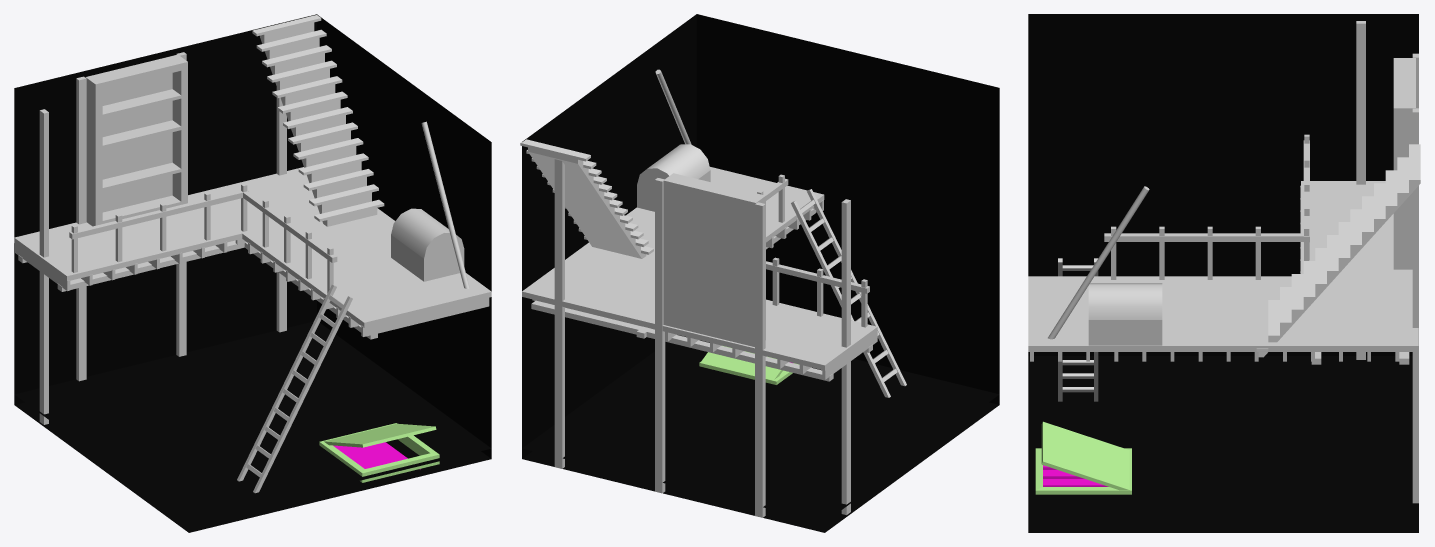
Rendered from cave.FBX.
3 views of the same model, side by side, from view 1: azimuth 30°, elevation 25°; view 2: azimuth 150°, elevation 25°; view 3: azimuth 270°, elevation 25° (orthographic). The views are drawn at different scales.
Parts seen in each view (by area): view 1: Pièce cave, étagère, StraightStair001, Poutres, rambarde, Trappe, coffre, Echelle001, barre; view 2: Pièce cave, Poutres, étagère, StraightStair001, Echelle001, coffre, rambarde, Trappe; view 3: Pièce cave, StraightStair001, Trappe, Poutres, coffre, rambarde, étagère, Echelle001, barre.
Part boxes in pixels (left/top/right/bottom): Pièce cave: left=14, top=14, right=491, bottom=532; étagère: left=85, top=54, right=187, bottom=226; StraightStair001: left=251, top=14, right=384, bottom=226; Poutres: left=15, top=52, right=489, bottom=424; rambarde: left=69, top=183, right=337, bottom=293; Trappe: left=319, top=423, right=439, bottom=482; coffre: left=391, top=208, right=464, bottom=281; Echelle001: left=237, top=284, right=352, bottom=493; barre: left=421, top=121, right=469, bottom=288; Pièce cave: left=522, top=14, right=999, bottom=532; Poutres: left=531, top=159, right=877, bottom=517; étagère: left=663, top=173, right=765, bottom=346; StraightStair001: left=520, top=139, right=653, bottom=258; Echelle001: left=791, top=189, right=906, bottom=397; coffre: left=637, top=144, right=710, bottom=211; rambarde: left=757, top=174, right=869, bottom=327; Trappe: left=699, top=345, right=799, bottom=384; Pièce cave: left=1028, top=14, right=1418, bottom=532; StraightStair001: left=1256, top=144, right=1420, bottom=357; Trappe: left=1035, top=421, right=1131, bottom=494; Poutres: left=1030, top=21, right=1418, bottom=503; coffre: left=1088, top=283, right=1162, bottom=345; rambarde: left=1104, top=134, right=1309, bottom=279; étagère: left=1393, top=58, right=1415, bottom=269; Echelle001: left=1058, top=258, right=1098, bottom=401; barre: left=1048, top=186, right=1149, bottom=339.
Size of the model in its own units: 602 by 603 by 603.
